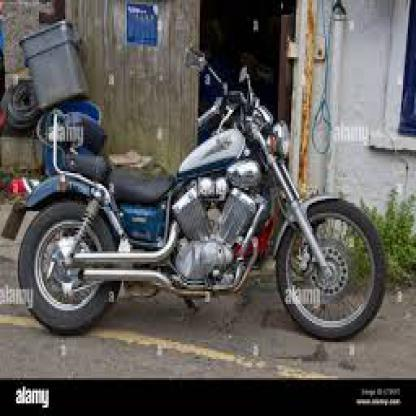Motorcycle: (5, 61, 395, 342)
